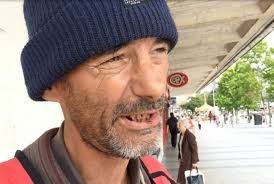no-mask: (35, 5, 172, 164)
